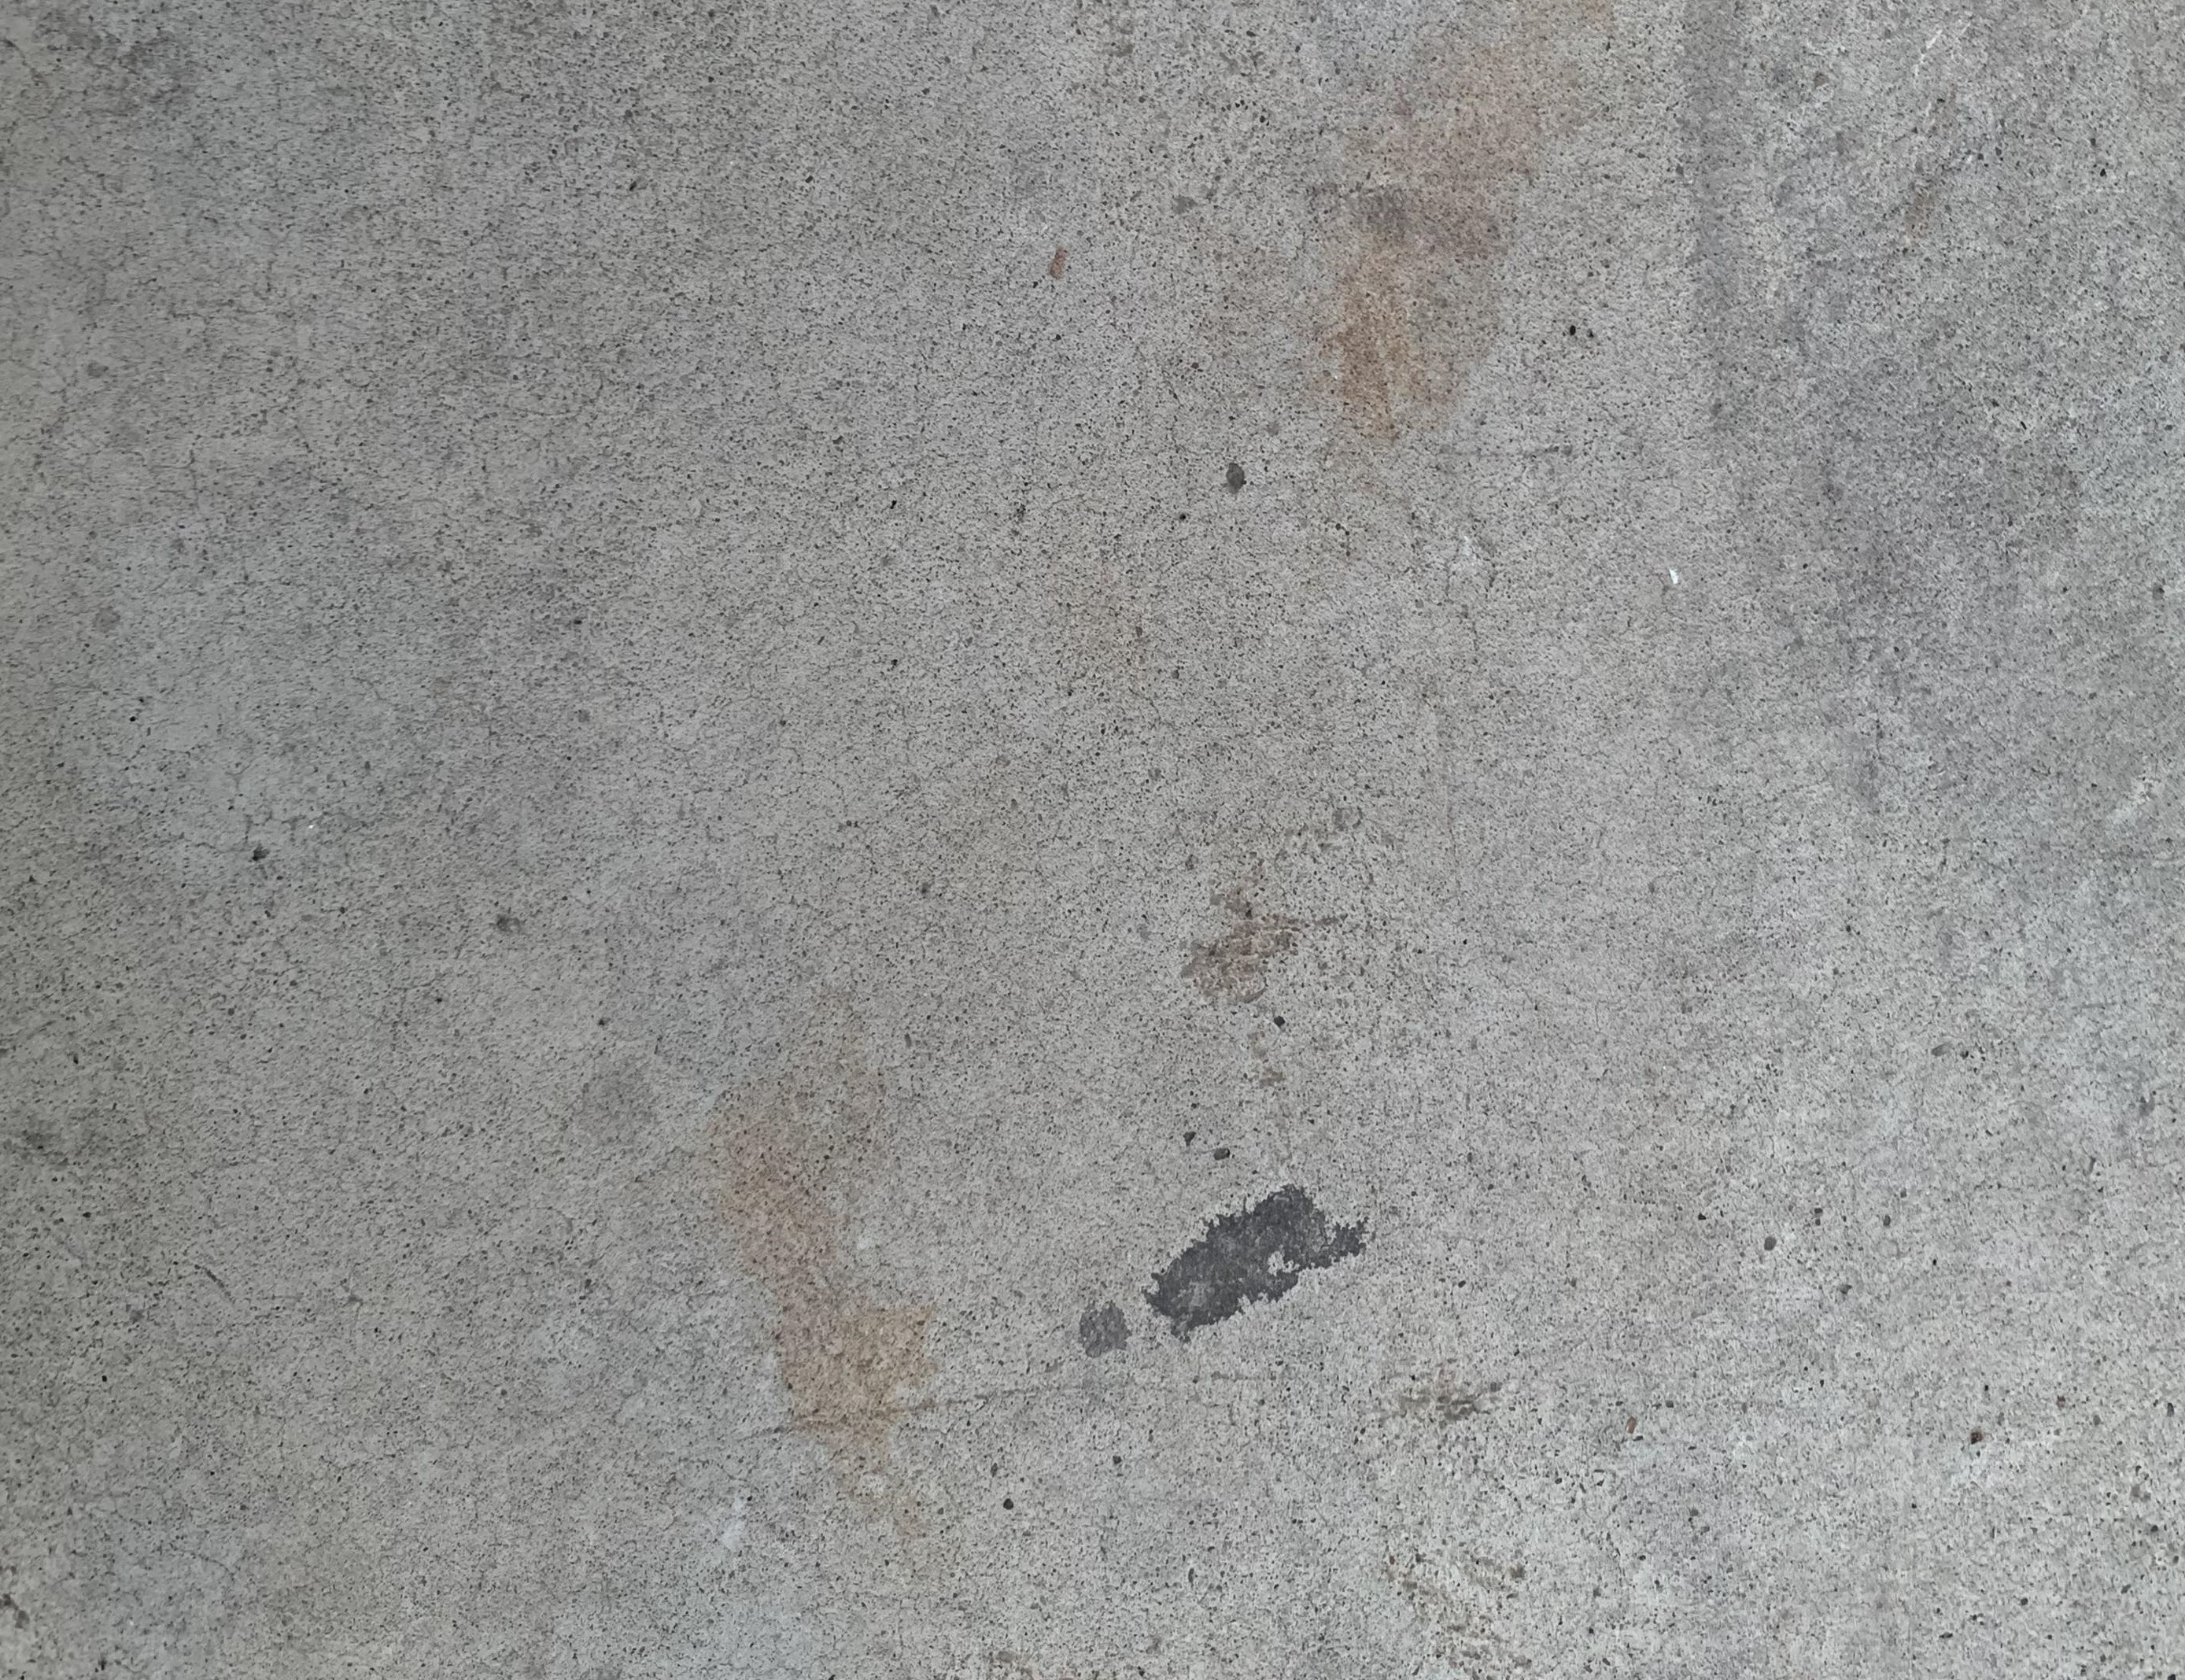grey spot: (1138, 1184, 1368, 1350), (1075, 1301, 1130, 1361), (1223, 464, 1248, 499)
